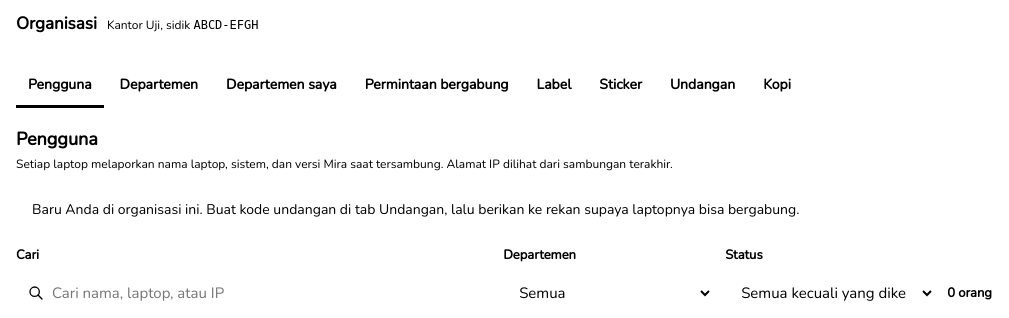
Scenario: Organisasi: peringatan superadmin tunggal › tidak tampil kalau sudah dua superadmin
The image size is (1009, 318).
Click the button "Undangan" at (703, 86), box [658, 64, 747, 108]
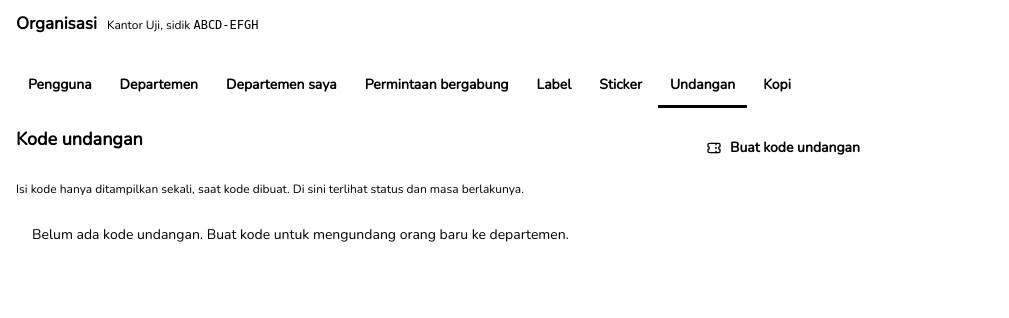
Result: the heading "Kode undangan" is shown at [16, 126, 143, 152]
